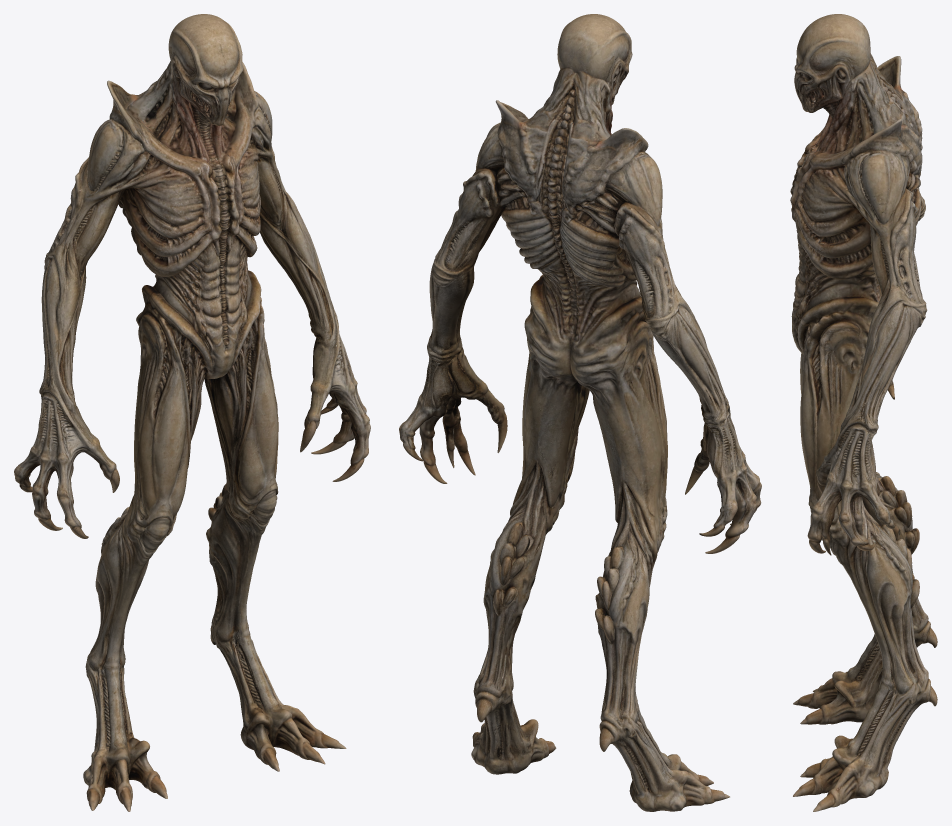
Rendered from horror-monster.glb.
The picture shows the model from 3 angles, left to right: view 1: azimuth 30°, elevation 25°; view 2: azimuth 150°, elevation 25°; view 3: azimuth 270°, elevation 25°; orthographic projection. The views are drawn at different scales.
Parts seen in each view (by area): view 1: horror-monster; view 2: horror-monster; view 3: horror-monster.
Boxes of the visible parts, x1,y1,x2,y2 form: horror-monster: [14, 14, 370, 811]; horror-monster: [399, 14, 761, 811]; horror-monster: [790, 14, 937, 811].
Bounding box in the file's own units: 1.02 × 2.2 × 0.4003.
Materials: 1 (1 with a texture image).
